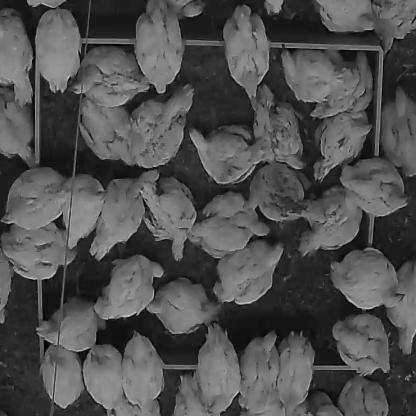chicken: (126, 75, 199, 170), (88, 168, 162, 261), (190, 116, 274, 187), (192, 192, 272, 265), (138, 171, 198, 264), (300, 181, 371, 259), (220, 0, 270, 110), (328, 243, 406, 312), (78, 93, 146, 170), (244, 164, 324, 228), (308, 108, 376, 182), (71, 47, 153, 108), (213, 239, 287, 306), (93, 255, 166, 322), (192, 323, 244, 416), (136, 1, 186, 95), (1, 219, 78, 280), (244, 92, 305, 168), (0, 169, 75, 230), (280, 45, 361, 101), (340, 156, 413, 218), (370, 80, 416, 178), (235, 322, 283, 415), (32, 8, 82, 95), (34, 297, 110, 352), (146, 280, 224, 333), (120, 333, 169, 415), (60, 170, 109, 248), (274, 329, 317, 415), (332, 316, 389, 378), (0, 79, 40, 167), (0, 5, 35, 105), (82, 343, 128, 415), (43, 337, 85, 411), (387, 256, 415, 354), (317, 1, 387, 40), (372, 1, 416, 58), (170, 372, 226, 415), (339, 377, 392, 416), (303, 386, 345, 415), (0, 236, 11, 324)
